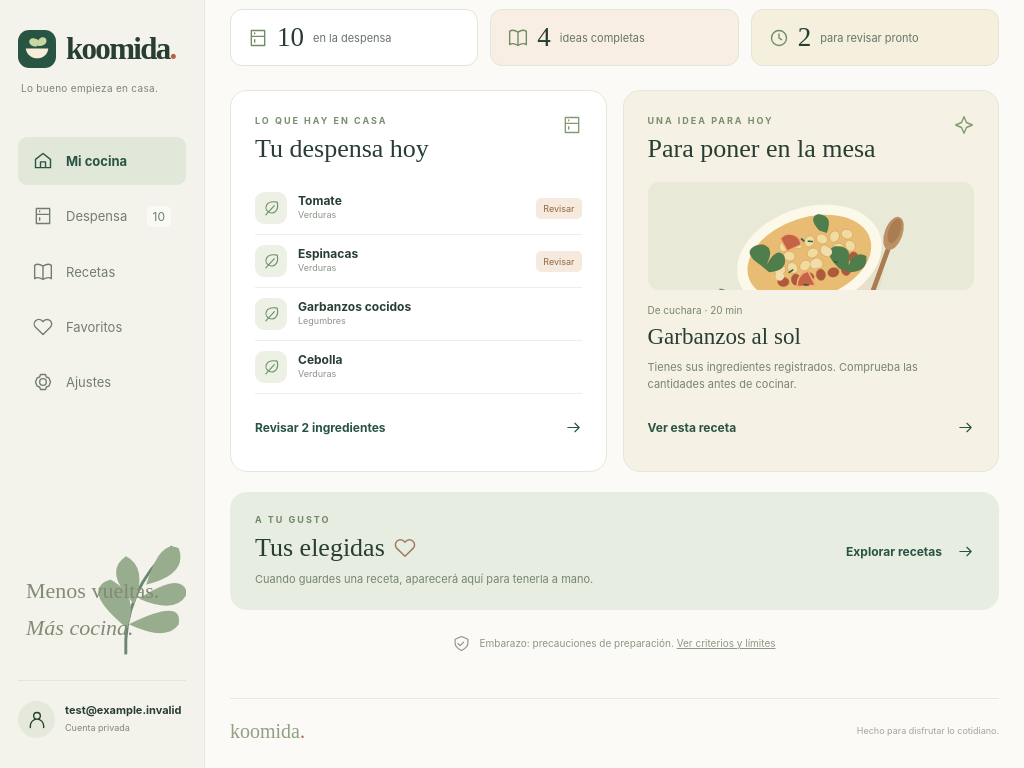
it: Koomida user flows › shows the signed-in kitchen dashboard and opens its featured meal
(page scrolled)
Check: the heading "Tu despensa hoy" is shown, box x1=255 y1=133 x2=429 y2=164
Check: the text "para revisar pronto" is shown, box x1=820 y1=30 x2=919 y2=45
What coordinates should you click on to do the following:
click the button "Ver esta receta"
I would click on:
 (692, 427)
Its box is x1=648 y1=407 x2=974 y2=447.
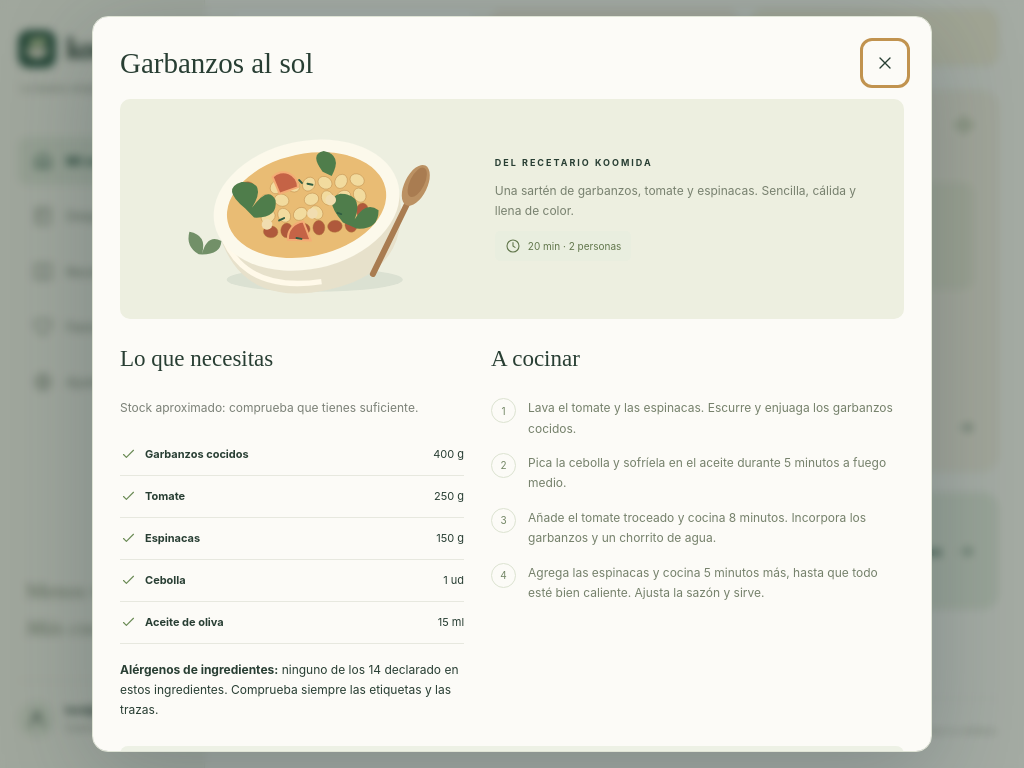
Check: the dialog is shown
What coordinates should you click on to do the following:
click the button named "Cerrar"
I would click on:
 (885, 63)
Its box is x1=866 y1=44 x2=904 y2=82.
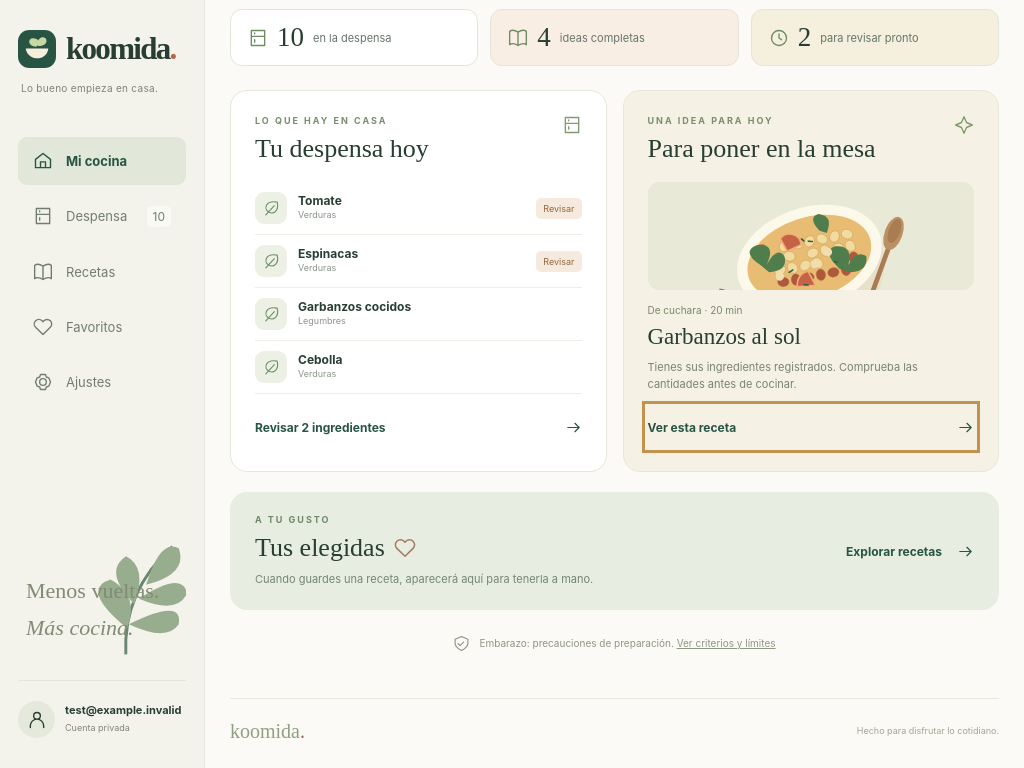
What coordinates should you click on to do the following:
click the button "2 para revisar pronto"
I would click on:
 (875, 38)
Its box is x1=751 y1=9 x2=999 y2=66.
(page scrolled)
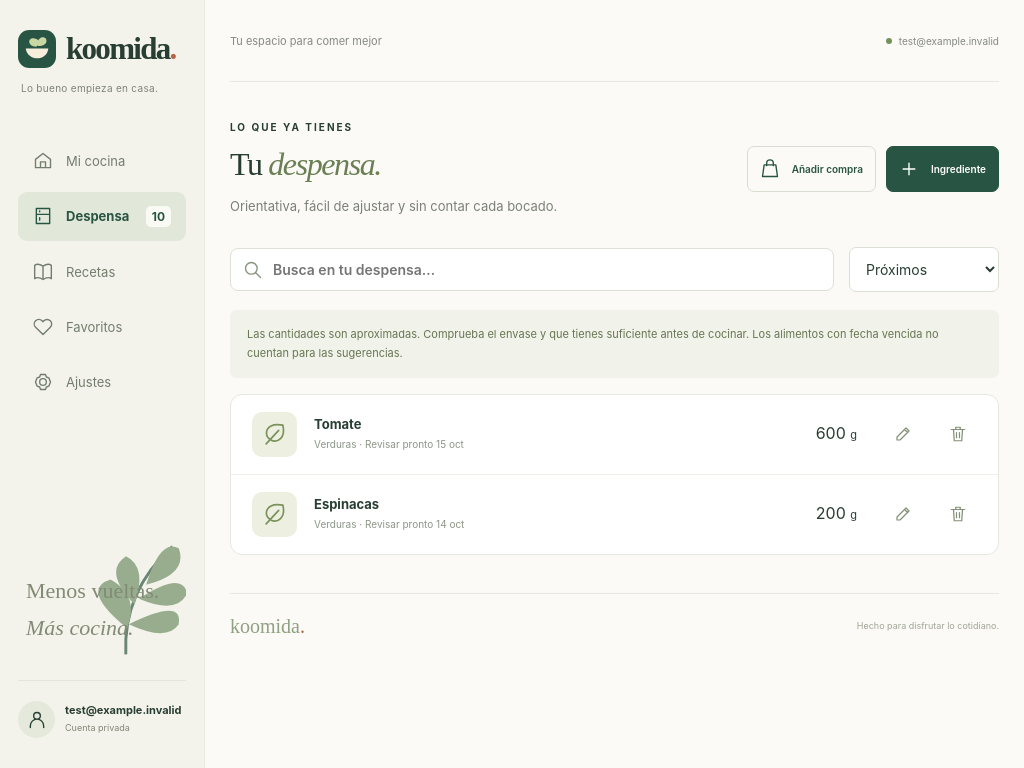
Check: the dropdown named "Filtrar despensa" shows "Próximos", box x1=849 y1=247 x2=999 y2=292
